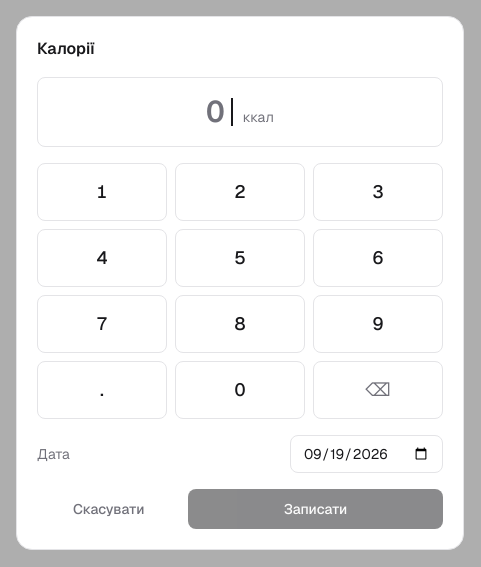
Test: ValueSheet › показує галочку замість підпису одразу після ✓
The image size is (481, 567).
Click the button "7". click: (102, 324)
box: 37,295 -> 167,353
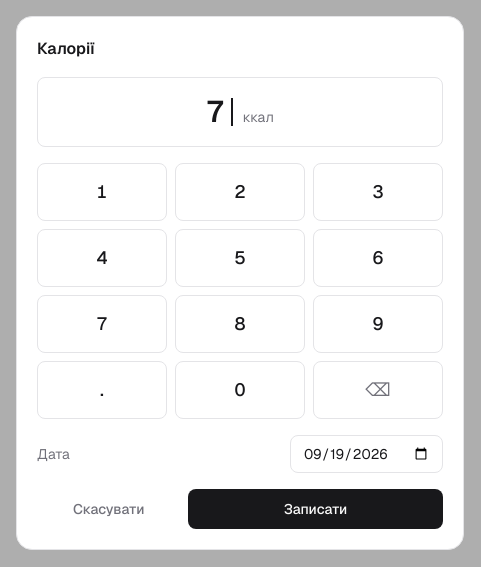
Click the button "Записати". click: (316, 509)
box: 188,489 -> 443,529
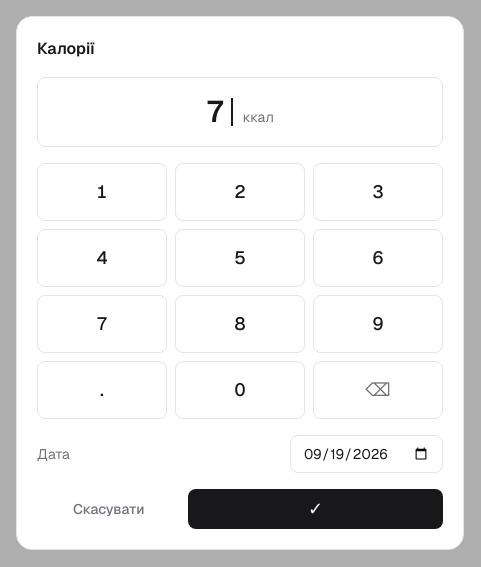
Now the text named "Записати" reads "✓", box 308,497 -> 323,520
